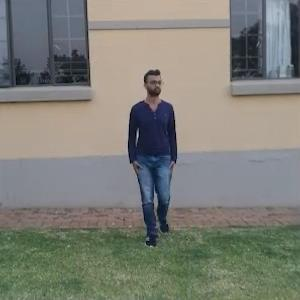follow: (121, 56, 187, 265)
